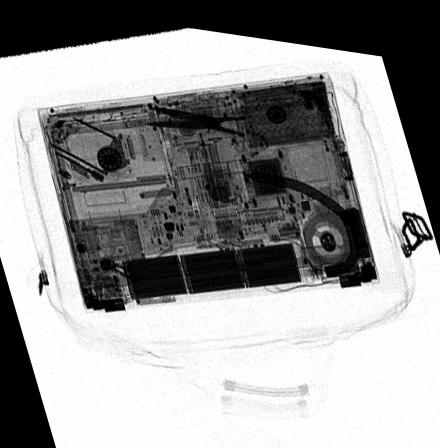Scissors: (140, 92, 271, 150)
